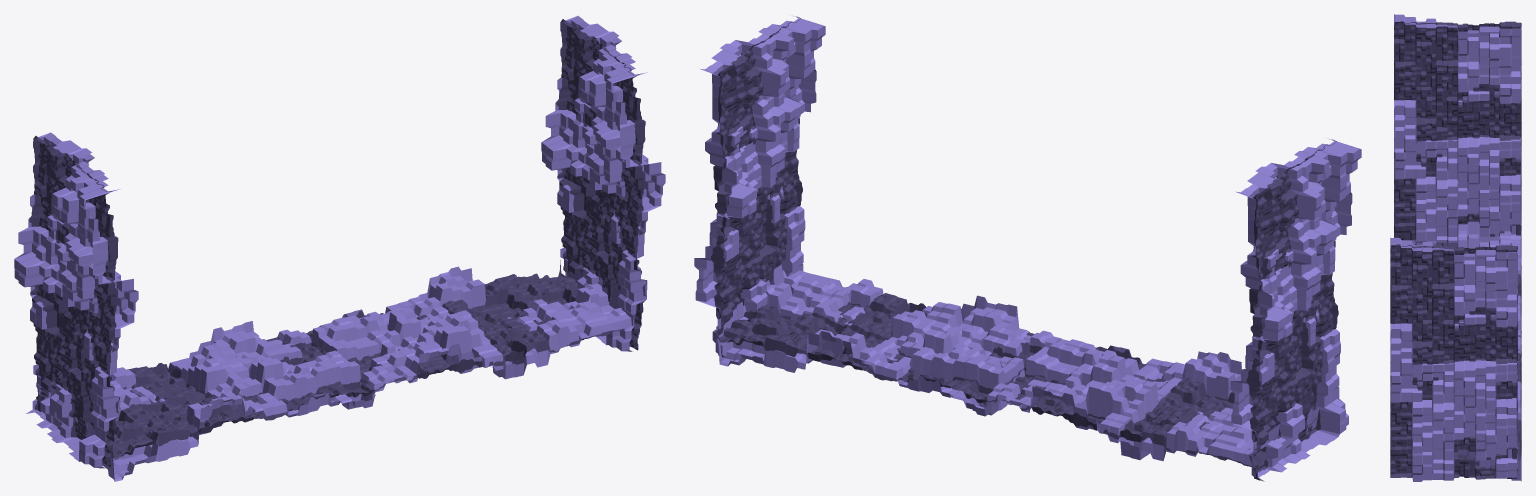
File: walls.fbx
3 renders of one model, left to right at view 1: azimuth 30°, elevation 25°; view 2: azimuth 150°, elevation 25°; view 3: azimuth 270°, elevation 25°, orthographic. The views are drawn at different scales.
Parts seen in each view (by area): view 1: Plane.002, Plane.003, Plane.000, Plane.001; view 2: Plane.002, Plane.000, Plane.003, Plane.001; view 3: Plane.003, Plane.002, Plane.001, Plane.000.
Part boxes in pixels (left/top/right/bottom): Plane.002: left=14, top=132, right=138, bottom=468; Plane.003: left=541, top=15, right=665, bottom=351; Plane.000: left=306, top=260, right=636, bottom=399; Plane.001: left=36, top=321, right=375, bottom=481; Plane.002: left=1230, top=138, right=1361, bottom=481; Plane.000: left=717, top=264, right=1061, bottom=416; Plane.003: left=694, top=15, right=825, bottom=358; Plane.001: left=984, top=338, right=1318, bottom=466; Plane.003: left=1390, top=237, right=1517, bottom=481; Plane.002: left=1394, top=14, right=1521, bottom=245; Plane.001: left=1394, top=221, right=1521, bottom=354; Plane.000: left=1394, top=351, right=1521, bottom=481.
Bounding box in the file's own units: 8790 × 4223 × 2058.
